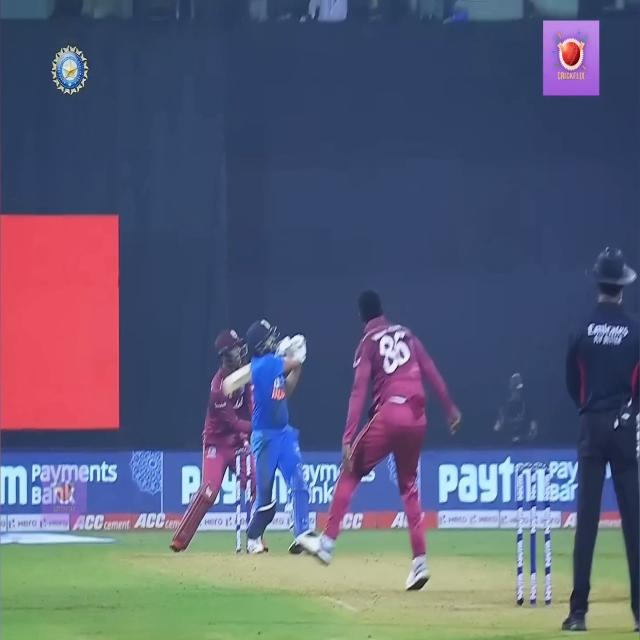partially_visible: (438, 449, 550, 512)
